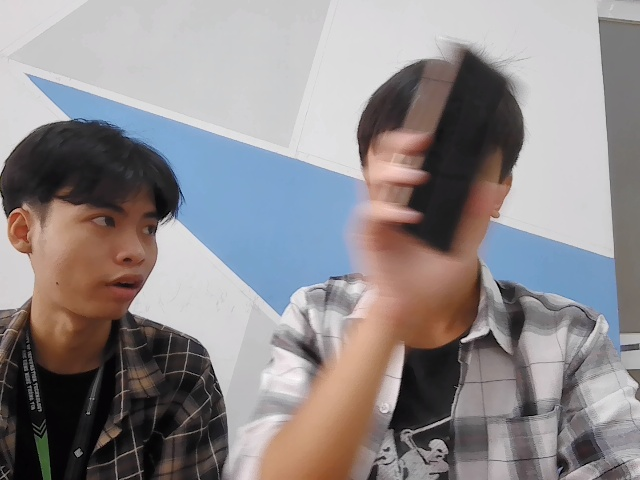human: (6, 109, 193, 332)
